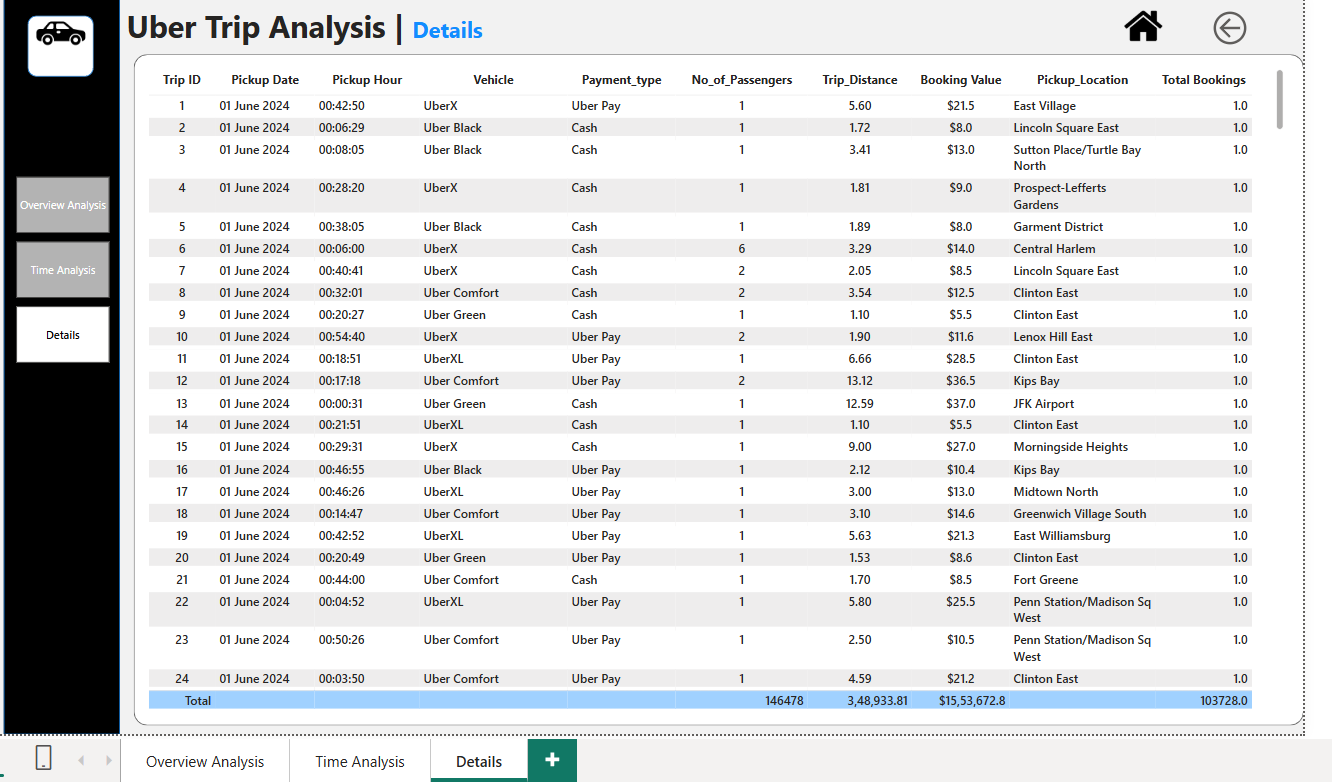

This screenshot's page, from the dashboard's own definition file:
{"tool":"powerbi","page":{"name":"Details","canvas":[1600,900],"ordinal":2},"visuals":[{"type":"shape","box":[10.3,0,142,900.5],"z":0},{"type":"textbox","box":[156.1,5.1,603.8,63.5],"z":1000},{"type":"shape","box":[169.7,68.8,1430.7,820.8],"z":2000},{"type":"tableEx","fields":{"Values":["Trip Details.Trip ID","Trip Details.Pickup Date","Trip Details.Pickup Hour(HH MM SS)","Trip Details.Vehicle","Trip Details.Payment_type","Sum(Trip Details.passenger_count)","Trip Details.Total trip distance Measure","Trip Details.Total Booking Value","Location Table.Location","Trip Details.Total Bookings"]},"box":[181.9,82.5,1398.6,791.8],"z":3000},{"type":"actionButton","box":[1484.2,10.7,73.4,52],"z":4000},{"type":"image","box":[1348.2,6.1,111.6,56.6],"z":5000},{"type":"group","id":"g1","title":"Group 1","box":[39.7,12.2,81,84.1],"z":6000},{"type":"pageNavigator","box":[26,218.6,114.6,229.3],"z":7000},{"type":"shape","box":[39.7,21.4,81,74.9],"z":28000,"group":"g1"},{"type":"image","box":[39.7,12.2,81,70.3],"z":29000,"group":"g1"}]}

Visuals, with their boxes on the page's 1600x900 design canvas (x1, y1, x2, y2). These are canvas units, not pixel positions in the 1332x782 screenshot, which may show the page scaled, cropped or inside an application window:
shape: 10/0/152/900
textbox: 156/5/760/69
shape: 170/69/1600/890
tableEx - Trip Details.Trip ID x Trip Details.Pickup Date: 182/82/1580/874
actionButton: 1484/11/1558/63
image: 1348/6/1460/63
"Group 1" group: 40/12/121/96
pageNavigator: 26/219/141/448
shape: 40/21/121/96
image: 40/12/121/82
